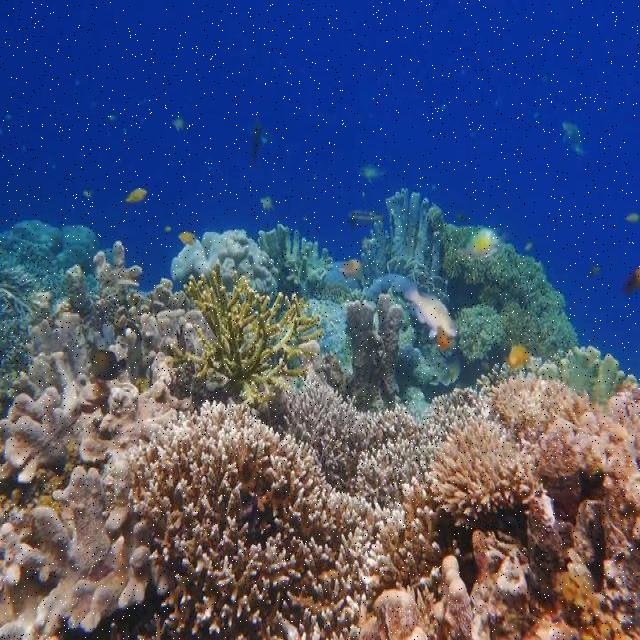fish: (404, 284, 459, 341)
reefs: (0, 224, 279, 633), (110, 398, 440, 639), (353, 378, 639, 639), (257, 379, 501, 507), (165, 268, 324, 409), (438, 227, 580, 361), (360, 186, 450, 305), (341, 294, 404, 408), (258, 227, 333, 295)
